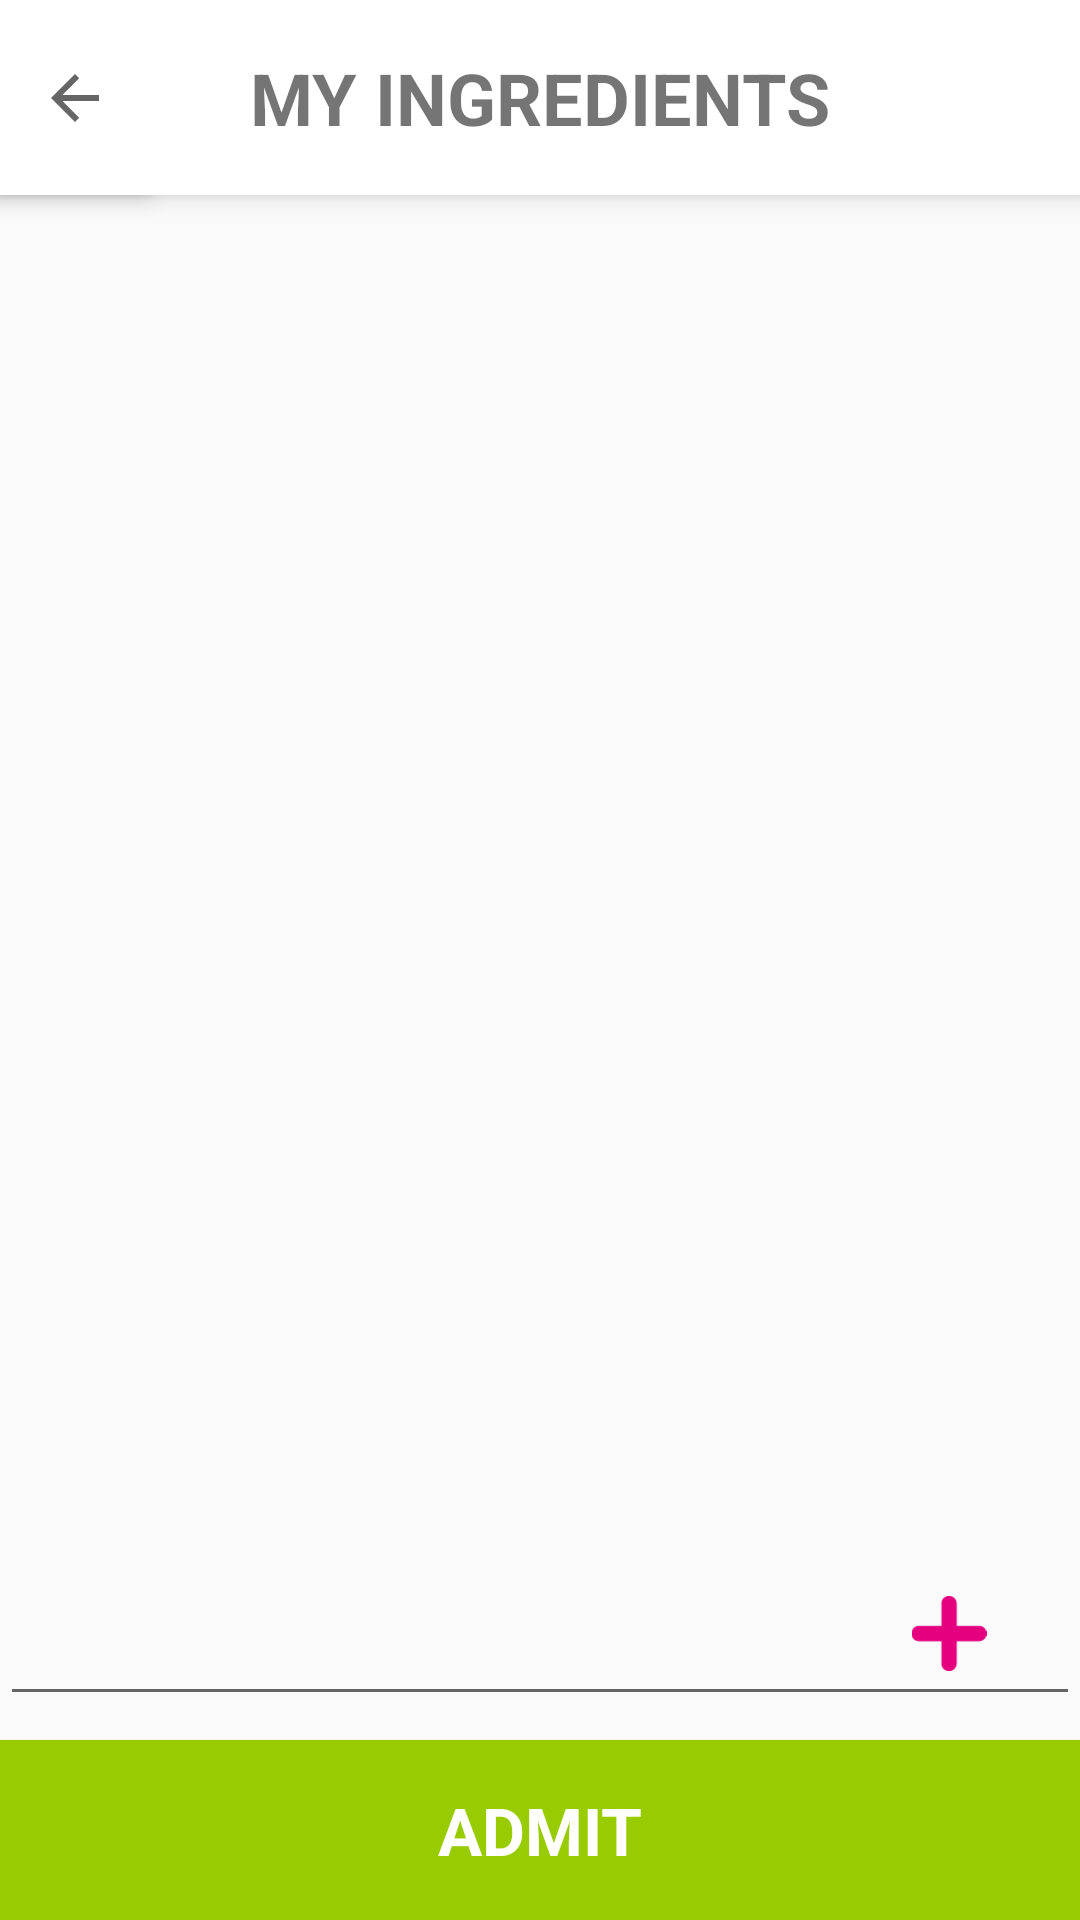

Icons on this 1080*1920 Android screen, each with its box as (x1, y1, x2, y2):
add: (912, 1596, 987, 1671)
